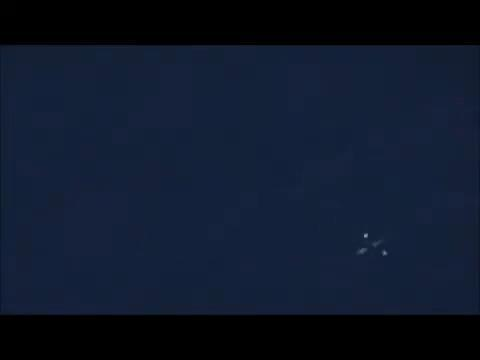Plane: (328, 224, 409, 265)
